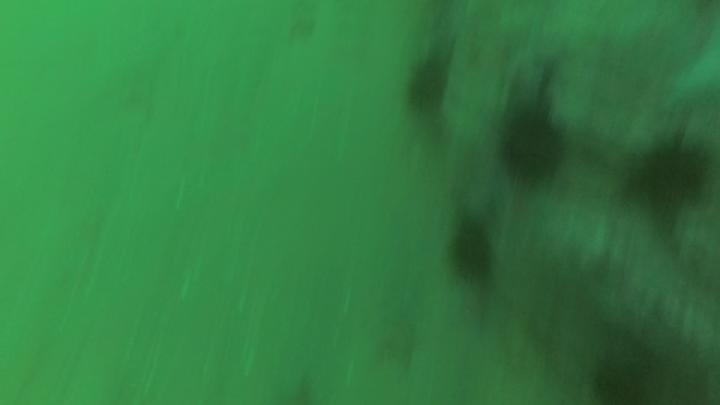echinus: (627, 131, 715, 218), (494, 99, 572, 190), (443, 211, 500, 289), (400, 50, 455, 120)
